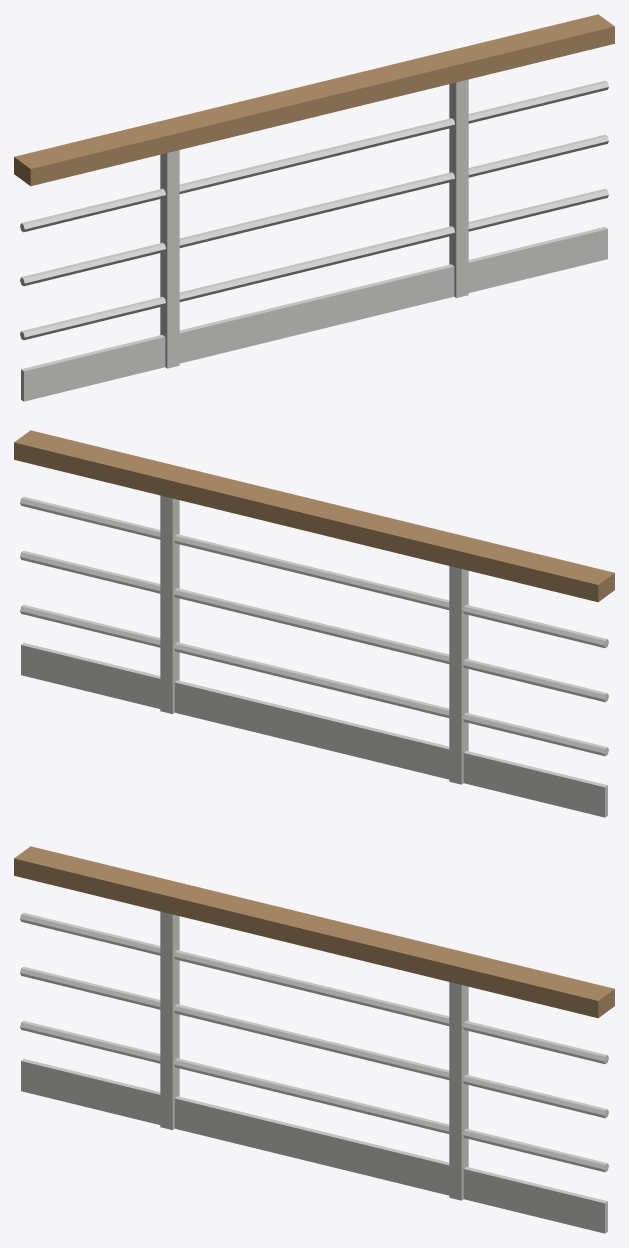
File: CR_Borda_45.fbx
3 views of the same model, one above another, from view 1: azimuth 30°, elevation 25°; view 2: azimuth 150°, elevation 25°; view 3: azimuth 330°, elevation 25° (orthographic).
Parts seen in each view (by area): view 1: CR_Borda_45; view 2: CR_Borda_45; view 3: CR_Borda_45.
Part boxes in pixels (box(x1,y1,x2,y2)): CR_Borda_45: box(14, 14, 614, 401); CR_Borda_45: box(14, 430, 614, 817); CR_Borda_45: box(14, 846, 614, 1233).
Bounding box in the file's own units: 2.83 × 1.1 × 0.14.
